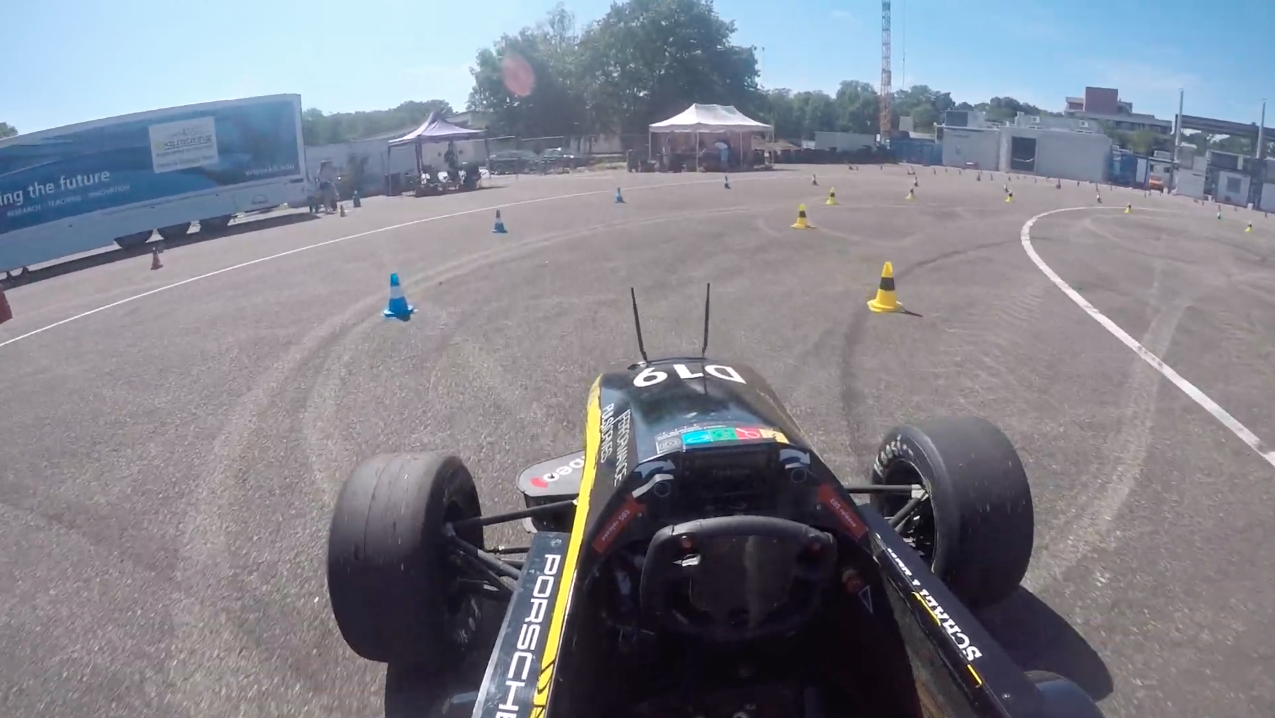lcone: (380, 270, 416, 323), (488, 205, 510, 236)
rcone: (861, 258, 914, 316), (789, 200, 817, 233)
